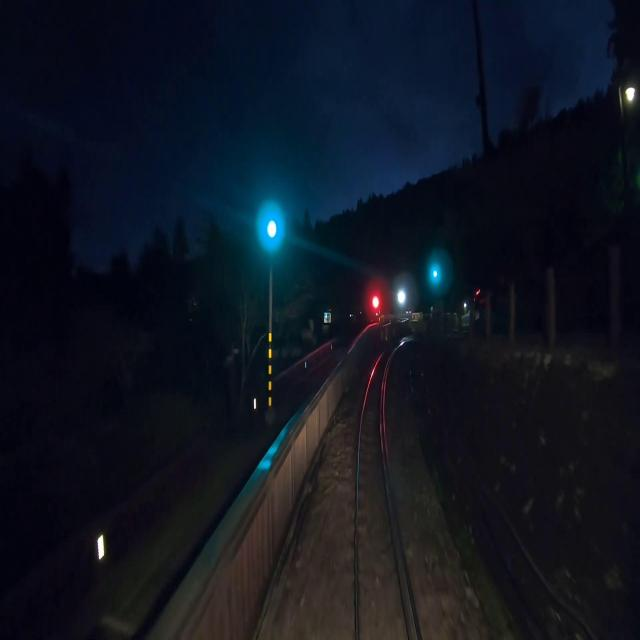rail-track: (358, 347, 408, 639)
